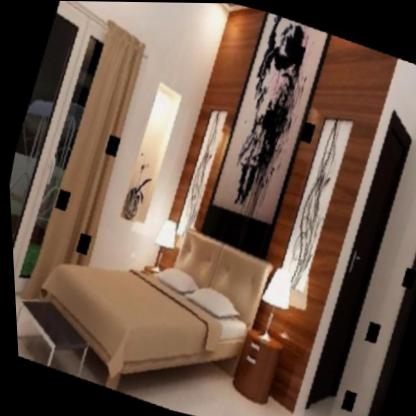Bed: (24, 200, 266, 409)
Lamp: (245, 258, 304, 348), (137, 210, 183, 283)
Nightstand: (219, 321, 287, 410)
